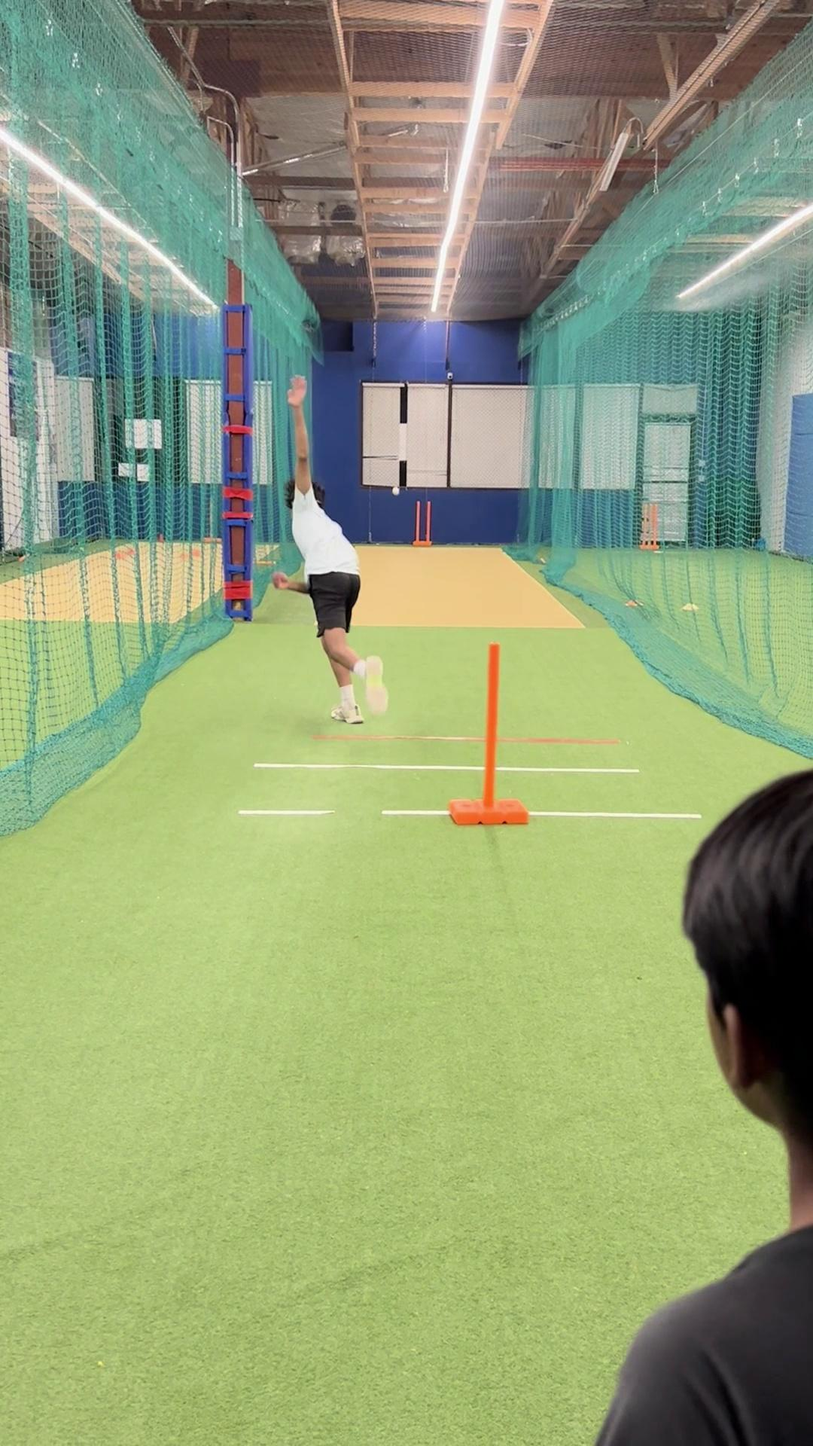ball: (388, 483, 402, 500)
